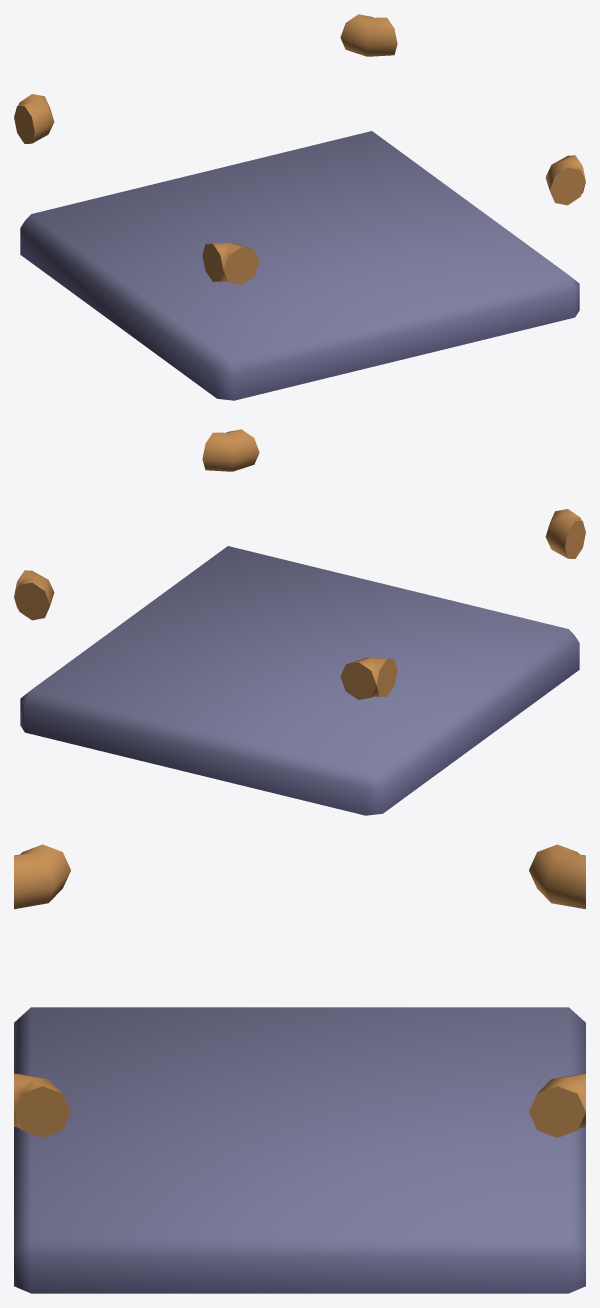
File: catwalk-cross.glb
3 renders of one model, top to bottom at view 1: azimuth 30°, elevation 25°; view 2: azimuth 150°, elevation 25°; view 3: azimuth 270°, elevation 25°, orthographic. The views are drawn at different scales.
Visible parts, largest first — view 1: catwalk-cross; view 2: catwalk-cross; view 3: catwalk-cross.
Boxes of the visible parts, box(x1,y1,x2,y2) form: catwalk-cross: box(14, 14, 585, 400); catwalk-cross: box(14, 429, 585, 815); catwalk-cross: box(14, 844, 585, 1293).
Bounding box in the file's own units: 1 × 0.4 × 1.
